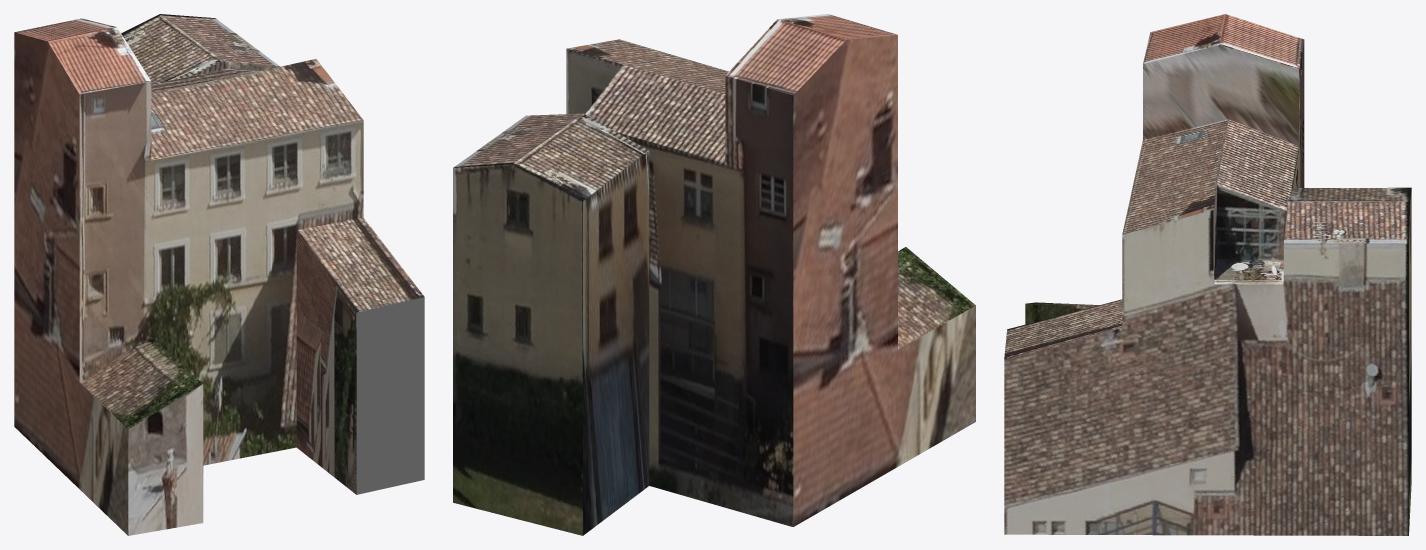
3 views of the same model, side by side, from view 1: azimuth 30°, elevation 25°; view 2: azimuth 150°, elevation 25°; view 3: azimuth 270°, elevation 25° (orthographic). The views are drawn at different scales.
Visible parts, largest first — view 1: Z_UP; view 2: Z_UP; view 3: Z_UP.
Part boxes in pixels (left/top/right/bottom): Z_UP: left=14, top=14, right=424, bottom=535; Z_UP: left=453, top=14, right=975, bottom=535; Z_UP: left=1004, top=14, right=1411, bottom=535.
Bounding box in the file's own units: 13.79 × 19.47 × 18.02.
Materials: 2 (1 with a texture image).
